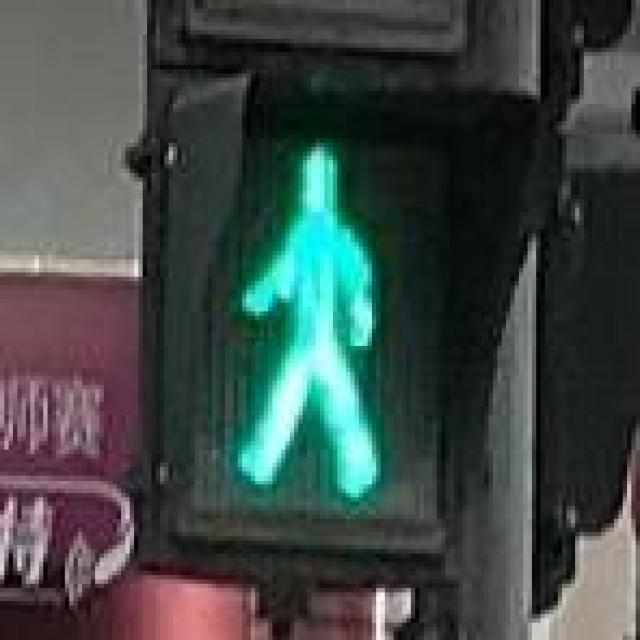green_light: (190, 104, 441, 532)
